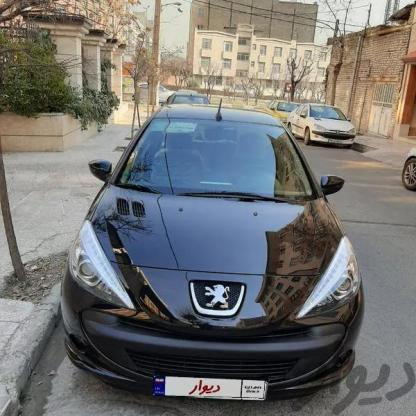Car: (52, 100, 375, 411), (289, 105, 366, 148), (395, 137, 416, 193)
